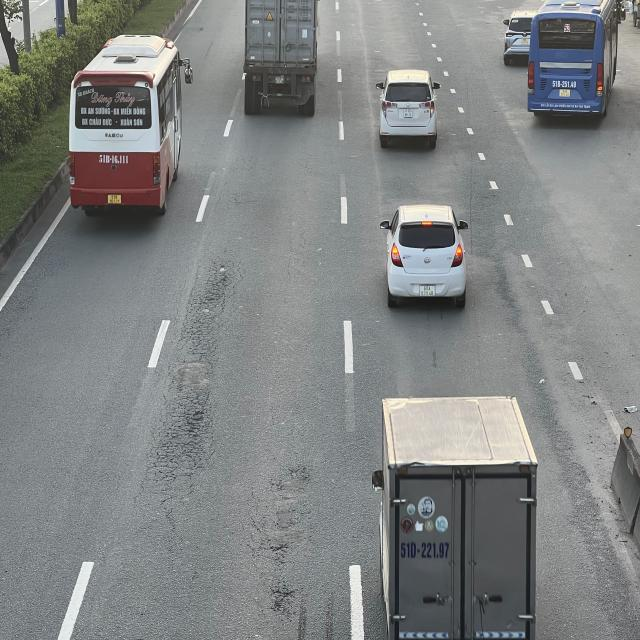car: (380, 203, 468, 308), (377, 68, 441, 147), (502, 9, 530, 61)
coach: (72, 38, 192, 218), (527, 0, 624, 118)
container: (243, 2, 321, 117)
truck: (372, 395, 536, 640)
